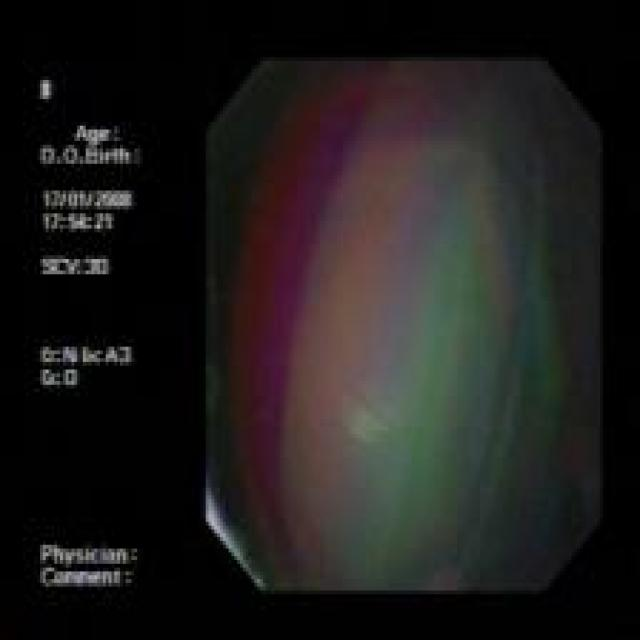color misalignment: (206, 62, 600, 589), (38, 73, 140, 590)
